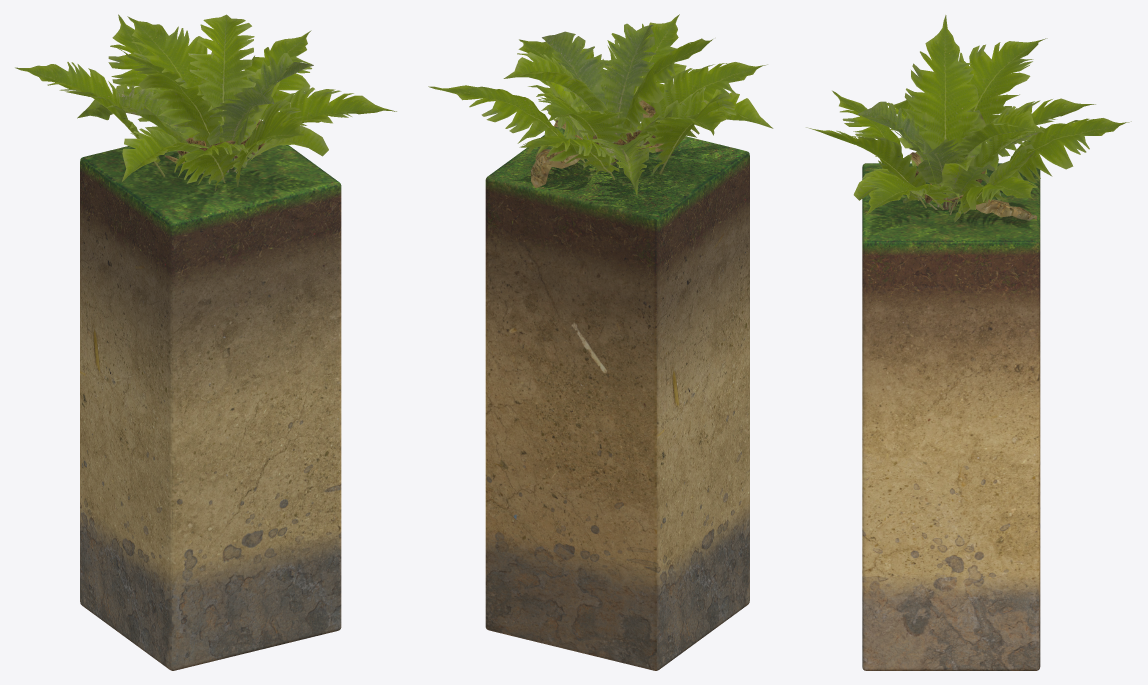
The model's file is geco_ground_profile.glb.
3 renders of one model, left to right at view 1: azimuth 30°, elevation 25°; view 2: azimuth 150°, elevation 25°; view 3: azimuth 270°, elevation 25°, orthographic. The views are drawn at different scales.
Visible parts, largest first — view 1: geco_groundprofile; view 2: geco_groundprofile; view 3: geco_groundprofile.
Part boxes in pixels (x1,y1,x2,y2): geco_groundprofile: (15,14,396,670); geco_groundprofile: (428,14,773,670); geco_groundprofile: (806,15,1131,670).
Bounding box in the file's own units: 0.8146 × 1.6 × 0.8398.
Materials: 2 (2 with a texture image).
